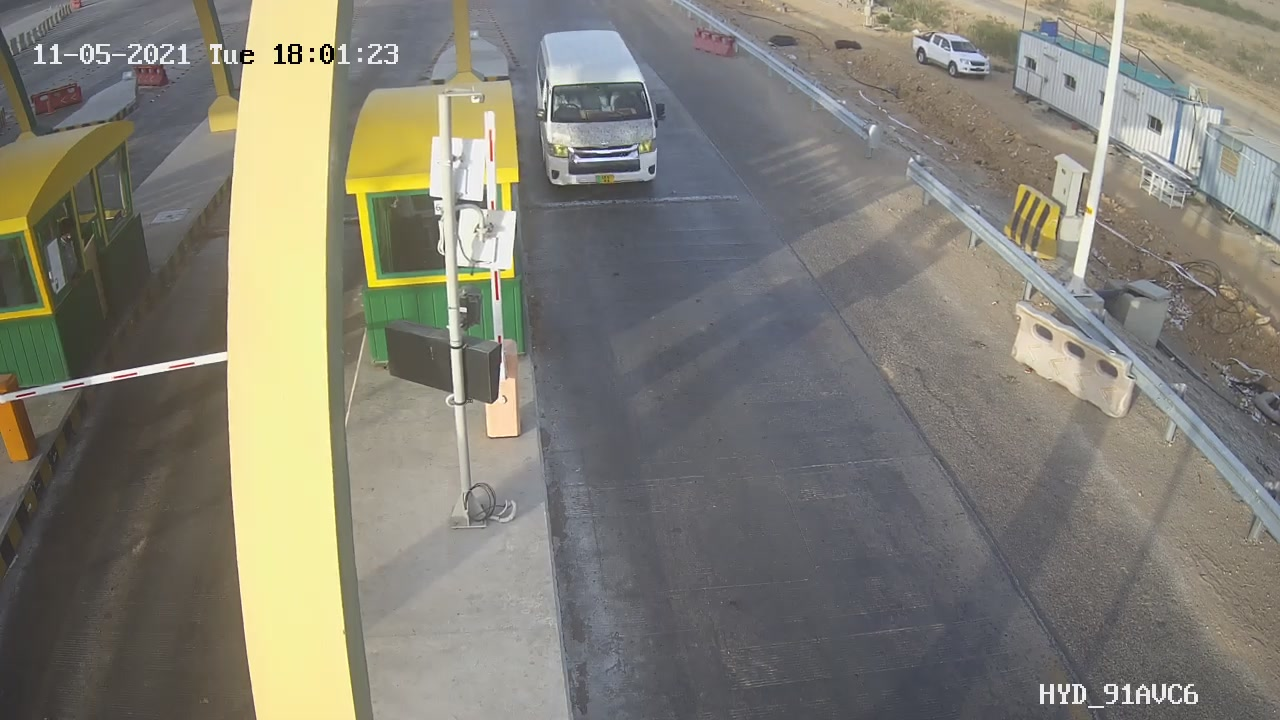F2: (524, 24, 671, 196)
